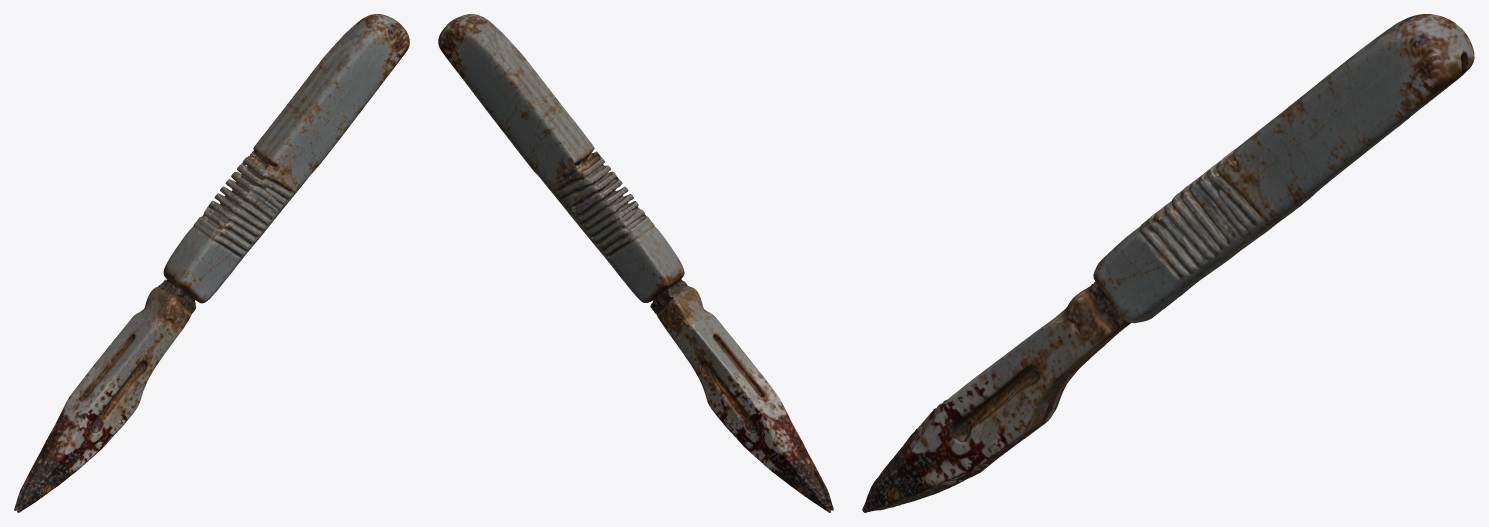
Rendered from Scalpel.fbx.
3 views of the same model, side by side, from view 1: azimuth 30°, elevation 25°; view 2: azimuth 150°, elevation 25°; view 3: azimuth 330°, elevation 25° (orthographic). The views are drawn at different scales.
Parts seen in each view (by area): view 1: texture_mapping; view 2: texture_mapping; view 3: texture_mapping.
Part boxes in pixels (x1,y1,x2,y2): texture_mapping: (14,14,409,512); texture_mapping: (438,14,833,512); texture_mapping: (862,14,1474,512).
Bounding box in the file's own units: 0.999 × 0.0978 × 0.9997.
1 material, 1 textured.
